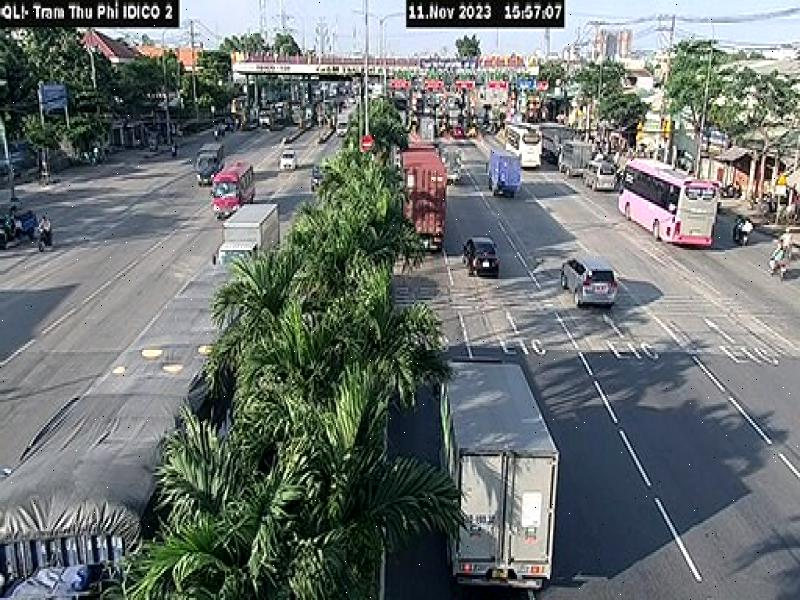bus: (616, 158, 722, 254)
truck: (434, 352, 556, 595), (396, 136, 453, 255), (217, 206, 279, 279), (211, 162, 256, 217), (484, 148, 524, 201)
